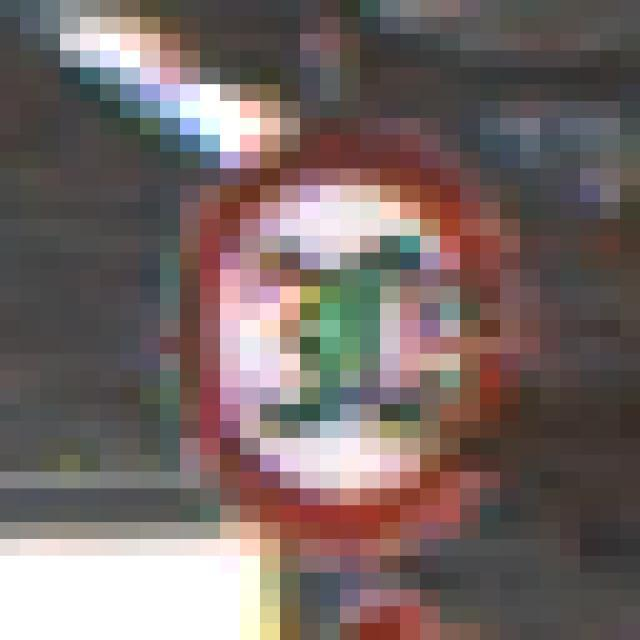Speed Limit -30-: (90, 75, 530, 548)
